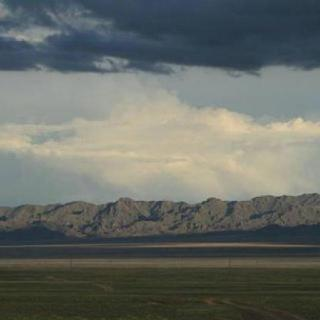Nimbostratus: (0, 0, 320, 192)
